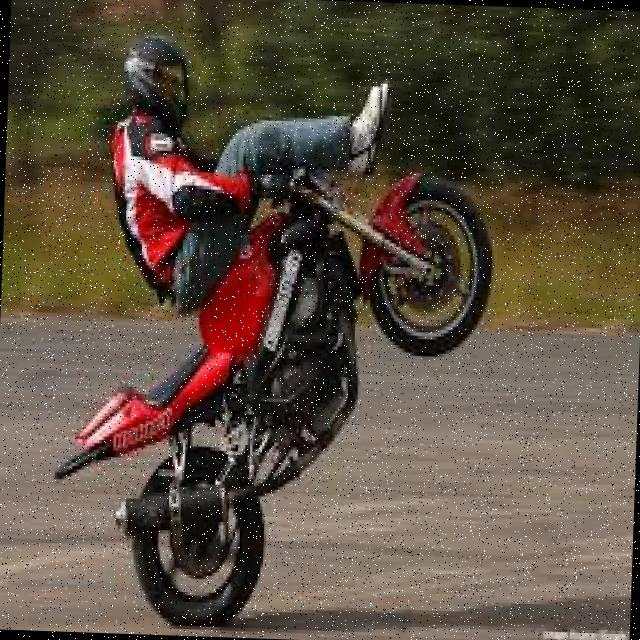Wheeling: (78, 29, 501, 638)
